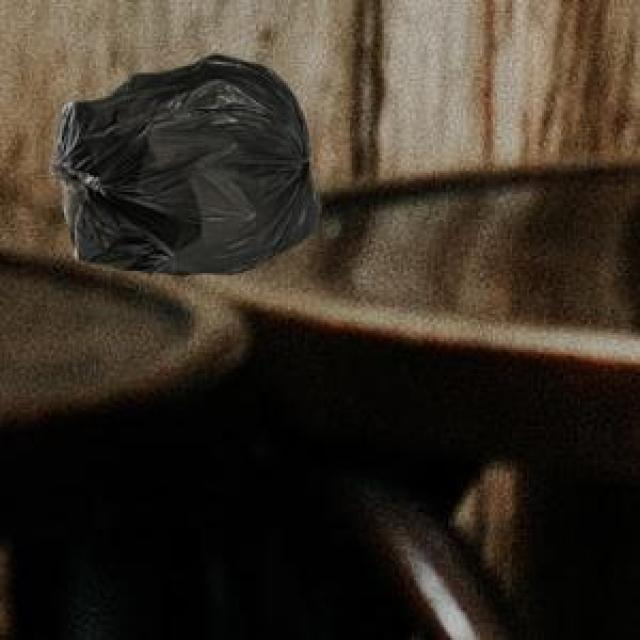miscellaneous trash: (45, 51, 318, 271)
